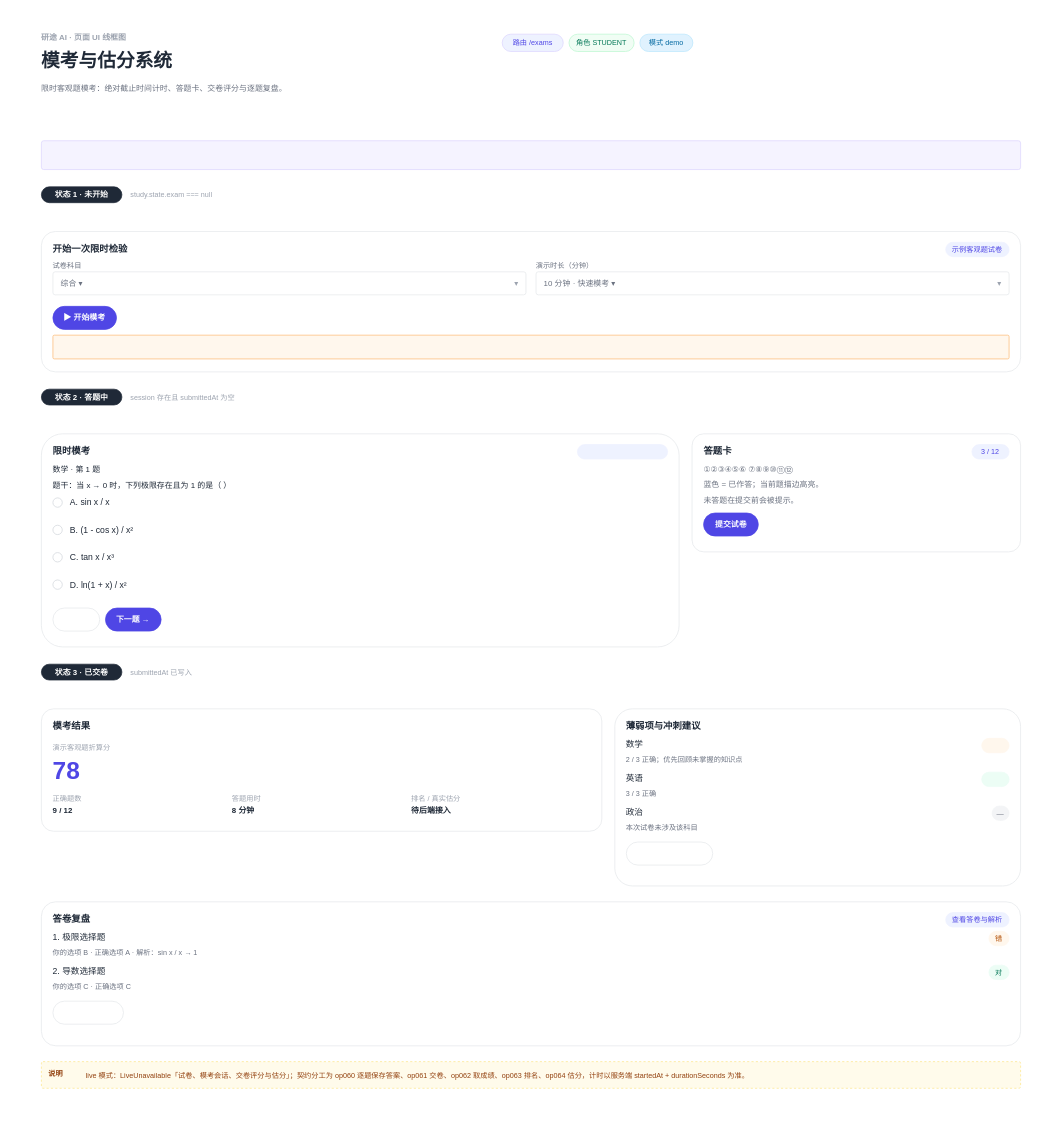
This 1063x1138 diagram has some shape labels left out. Here are the shapes that lost their labels. From the top down, the box of each, then its label:
(41, 140, 1021, 170): ⓘ 当前为前端演示。示例院校、学习资料与 AI 回复均不代表真实业务结果；本地学习操作仅保存在本浏览器。
(52, 334, 1009, 359): 综合卷 12 题，每科 3 题；演示评分按正确比例折算为 100 分，不代表真实分值。
(577, 444, 668, 459): ⏱ 09:42（<60s 变红）
(52, 607, 100, 631): 上一题
(981, 738, 1009, 753): 薄弱
(981, 771, 1009, 787): 稳定
(626, 841, 713, 865): 回到错题专项训练
(52, 1000, 123, 1024): 再做一次模考
